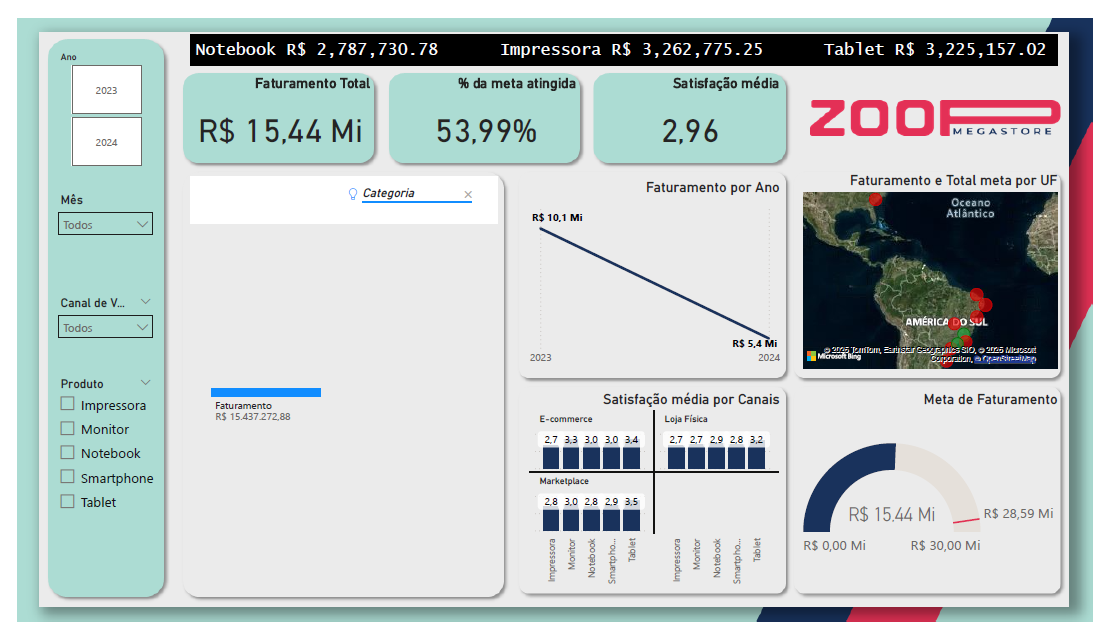

The dashboard page shown, as its layout file describes it:
{"tool":"powerbi","page":{"name":"Relatório de Vendas","canvas":[1280,720],"ordinal":0},"visuals":[{"type":"card","title":"Faturamento Total","fields":{"Values":["Medidas.Faturamento"]},"box":[201.1,67.3,224.4,106.8],"z":0},{"type":"card","title":"% da meta atingida","fields":{"Values":["Medidas.% Meta Atingida"]},"box":[446.2,67.3,224.4,106.8],"z":1000},{"type":"card","title":"Satisfação média","fields":{"Values":["Medidas.Satisfação média"]},"box":[688.6,67.3,224.4,106.8],"z":2000},{"type":"slicer","fields":{"Values":["dCalendario.Ano"]},"box":[38.6,35,133.8,148.1],"z":3000},{"type":"slicer","fields":{"Values":["dCalendario.Mes nome"]},"box":[38.6,202.9,133.8,90.7],"z":4000},{"type":"slicer","fields":{"Values":["dCanal de Vendas.Canal de Venda"]},"box":[38.6,325.9,133.8,96.1],"z":5000},{"type":"slicer","fields":{"Values":["dProdutos.Produto"]},"box":[38.6,421.9,133.8,241.5],"z":6000},{"type":"lineChart","fields":{"Category":["dCalendario.Hierarquia.Ano","dCalendario.Hierarquia.Trimestre","dCalendario.Hierarquia.Mes nome","dCalendario.Hierarquia.Dia"],"Y":["Medidas.Faturamento"]},"box":[605.1,191.2,307.9,230.7],"z":7000},{"type":"map","fields":{"Category":["dEstados.UF"],"Size":["Medidas.Faturamento"]},"box":[931,183.1,313.3,238.8],"z":8000},{"type":"decompositionTreeVisual","fields":{"Analyze":["Medidas.Faturamento"],"ExplainBy":["dCategoria.Categoria","dProdutos.Produto"]},"box":[201.1,183.1,376.2,503.6],"z":9000},{"type":"clusteredColumnChart","title":"Satisfação média por Canais","fields":{"Category":["dProdutos.Produto"],"Y":["Medidas.Satisfação média"],"Rows":["dCanal de Vendas.Canal de Venda"]},"box":[605.1,443.5,307.9,243.3],"z":10000},{"type":"gauge","title":"Meta de Faturamento","fields":{"Y":["Medidas.Faturamento"],"TargetValue":["Medidas.Total meta"]},"box":[931,443.5,313.3,243.3],"z":11000},{"type":"ScrollingTextVisual1448795304508","fields":{"Category":["dProdutos.Produto"],"Measure Absolute":["Medidas.Faturamento"]},"box":[201.1,15.3,1043.2,45.8],"z":12000}]}

Visuals, with their boxes in screenshot pixels (x1, y1, x2, y2), scaled from the page's 1280x720 canvas onto the 1109x637 screenshot:
"Faturamento Total" card: [x1=174, y1=60, x2=369, y2=154]
"% da meta atingida" card: [x1=387, y1=60, x2=581, y2=154]
"Satisfação média" card: [x1=597, y1=60, x2=791, y2=154]
slicer - dCalendario.Ano: [x1=33, y1=31, x2=149, y2=162]
slicer - dCalendario.Mes nome: [x1=33, y1=180, x2=149, y2=260]
slicer - dCanal de Vendas.Canal de Venda: [x1=33, y1=288, x2=149, y2=373]
slicer - dProdutos.Produto: [x1=33, y1=373, x2=149, y2=587]
lineChart - dCalendario.Hierarquia.Ano x dCalendario.Hierarquia.Trimestre: [x1=524, y1=169, x2=791, y2=373]
map - dEstados.UF x Medidas.Faturamento: [x1=807, y1=162, x2=1078, y2=373]
decompositionTreeVisual - Medidas.Faturamento x dCategoria.Categoria: [x1=174, y1=162, x2=500, y2=608]
"Satisfação média por Canais" clusteredColumnChart: [x1=524, y1=392, x2=791, y2=608]
"Meta de Faturamento" gauge: [x1=807, y1=392, x2=1078, y2=608]
ScrollingTextVisual1448795304508 - dProdutos.Produto x Medidas.Faturamento: [x1=174, y1=14, x2=1078, y2=54]
